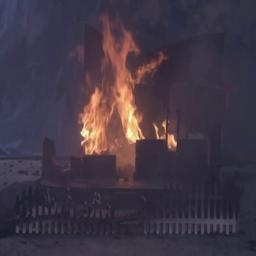fire: (62, 13, 187, 162)
